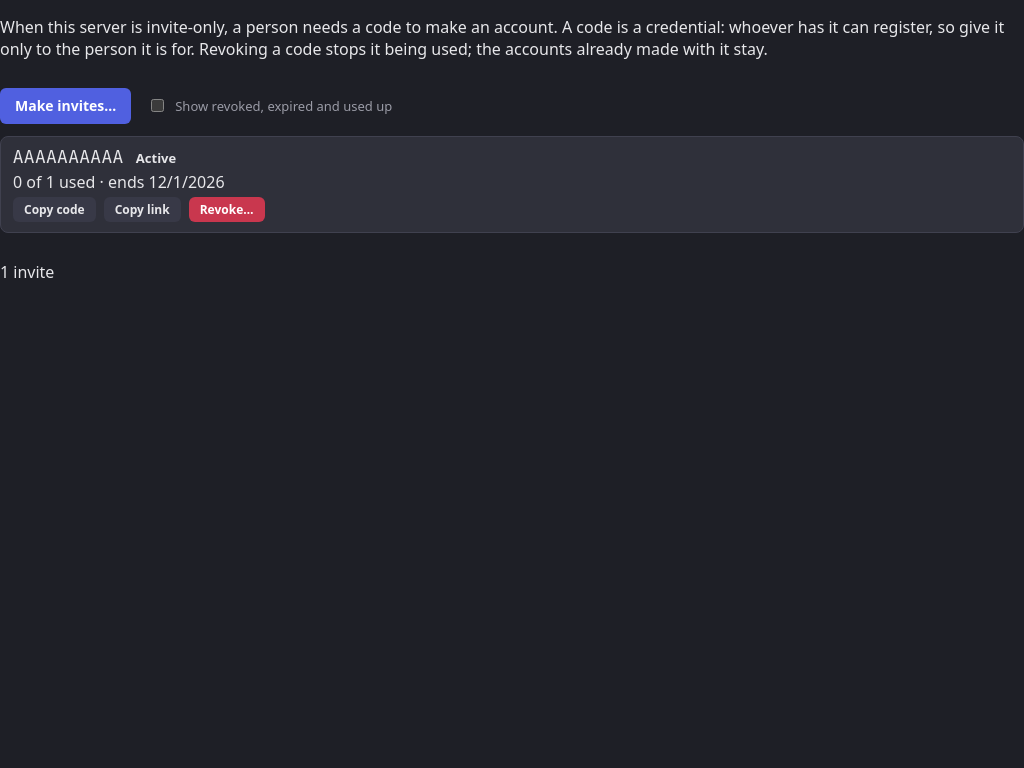
Test: making invites › starts with one use, a week and one code, and makes it in sudo mode
Check: the text "AAAAAAAAAA" is shown, box [13,146,124,166]
Click the button "Make invites…" at (66, 106), box [0,88,131,124]
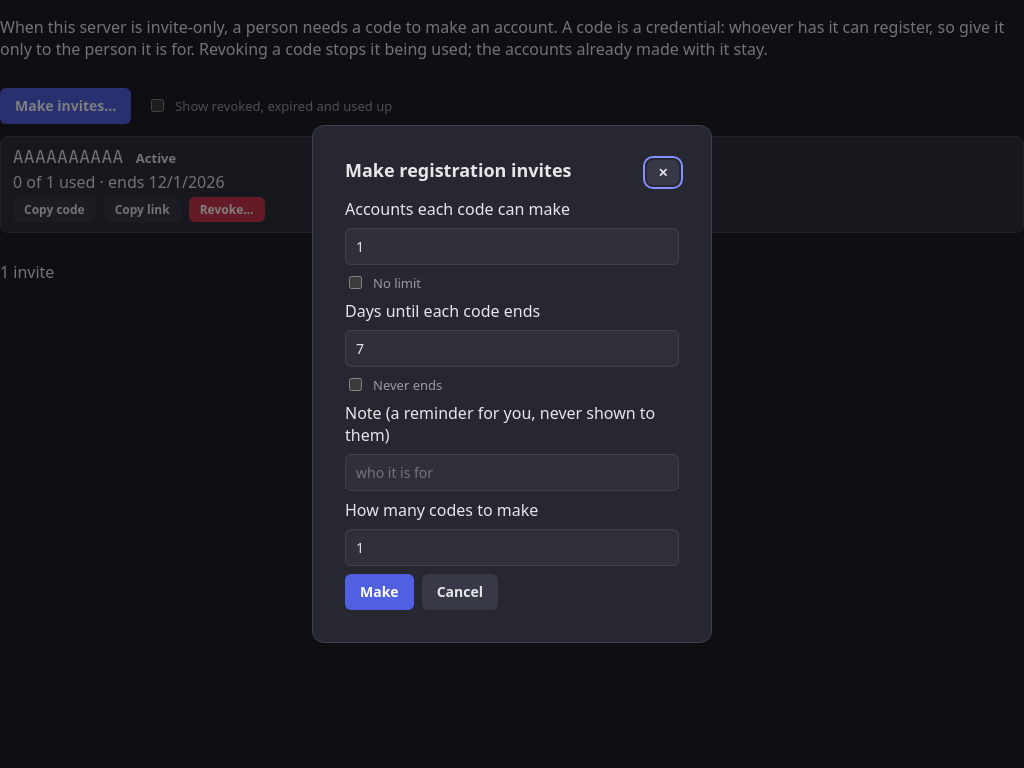
Check: the number field labelled "Accounts each code can make" holds "1", box [345,228,679,265]
Check: the number field labelled "Days until each code ends" holds "7", box [345,330,679,367]
Click the button "Make" at (379, 592), box [345,574,414,610]
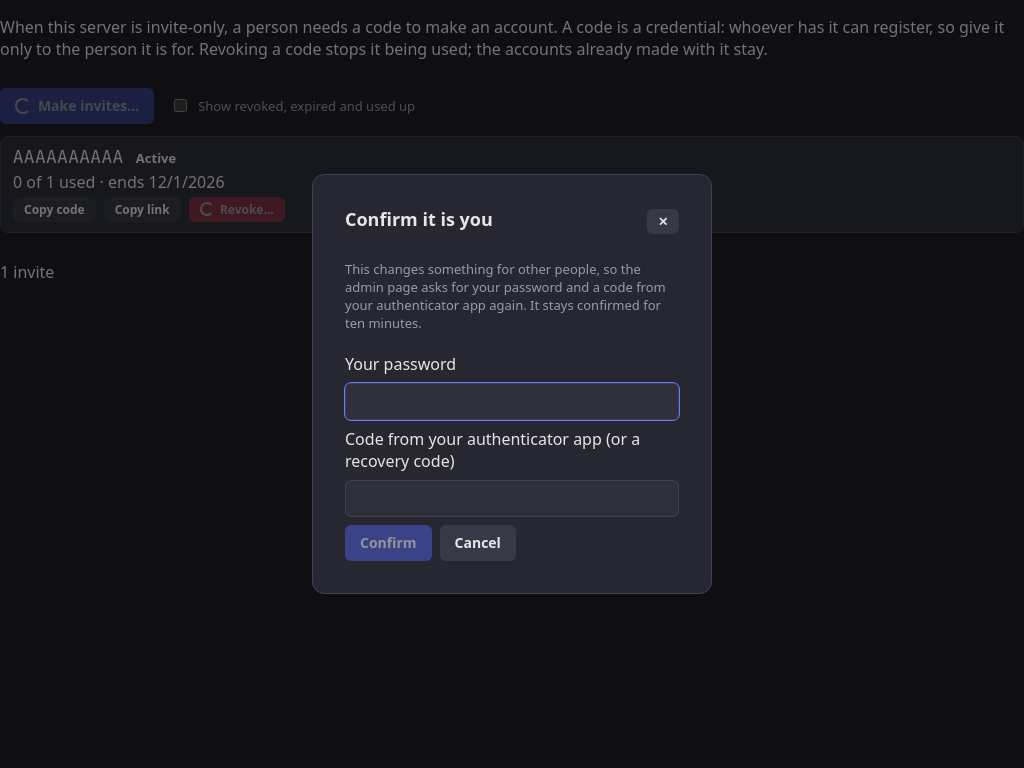
Type "pw" into the password field labelled "Your password" at (512, 402), box [345,383,679,420]
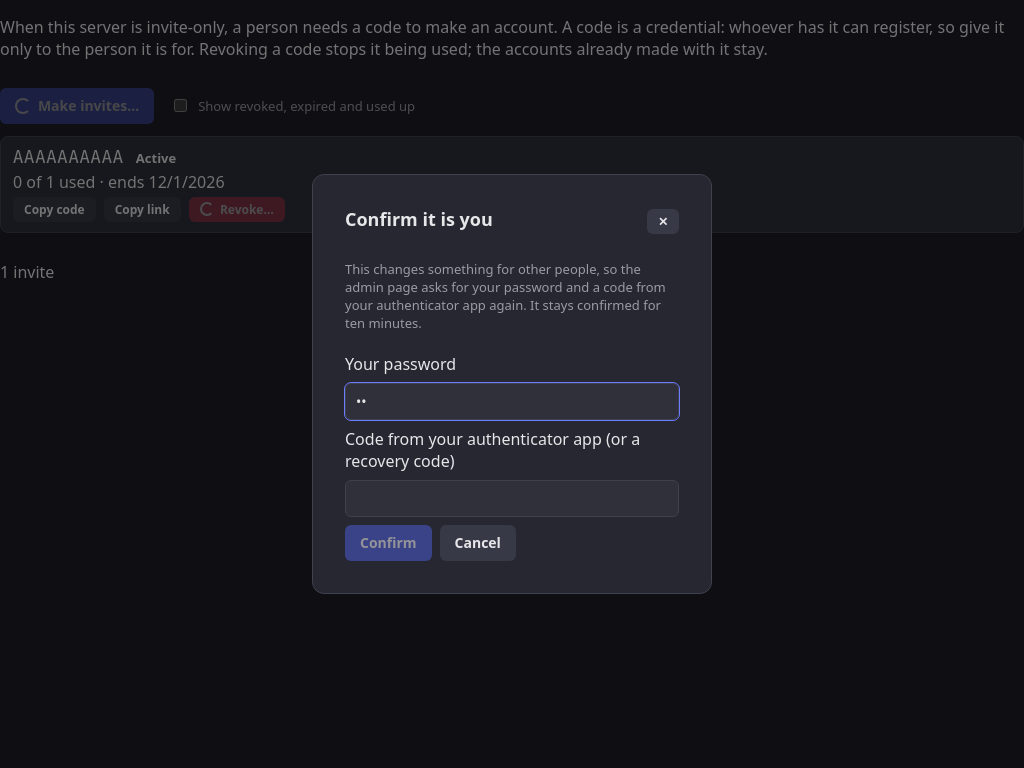
Type "123456" into the field labelled "Code from your authenticator app (or a recovery code)" at (512, 499), box [345,480,679,517]
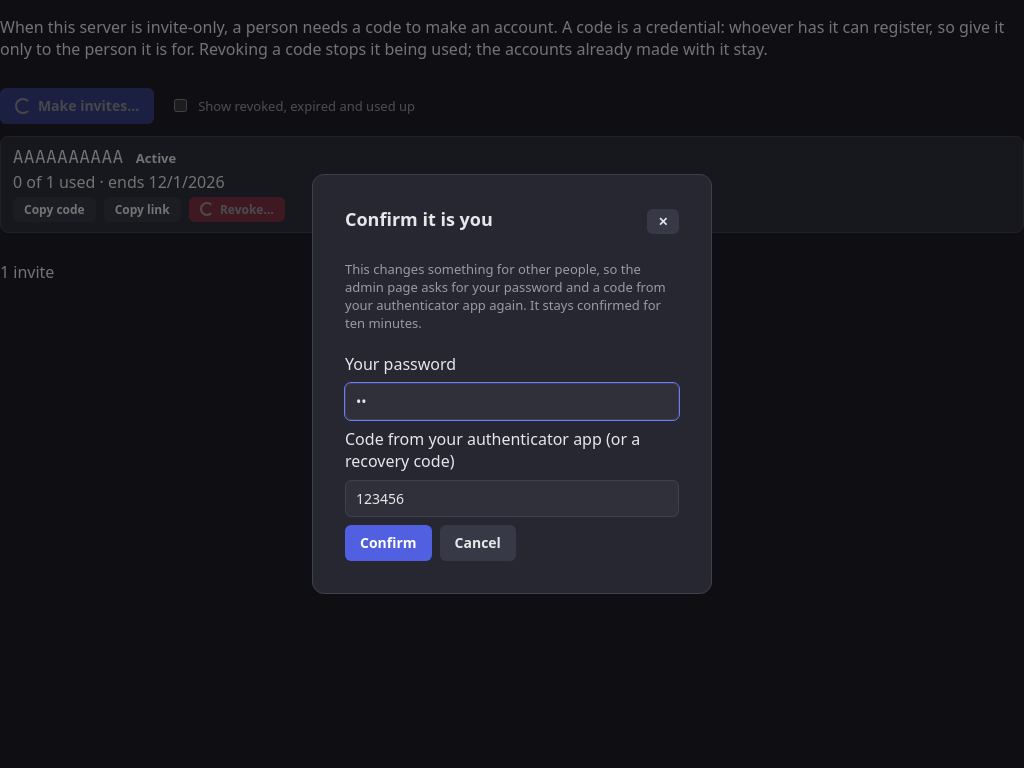
Click the button "Confirm" at (388, 543), box [345,525,432,561]
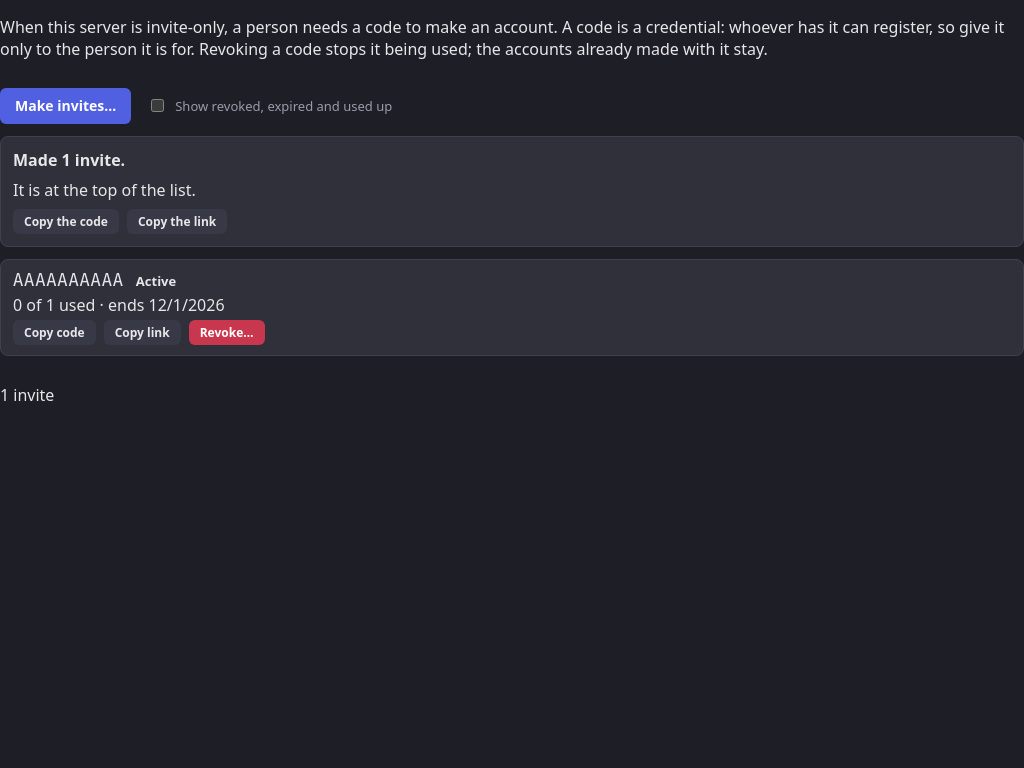
Check: the heading "Confirm it is you" is gone
Check: the text "Made 1 invite." is shown, box [13,148,125,170]
